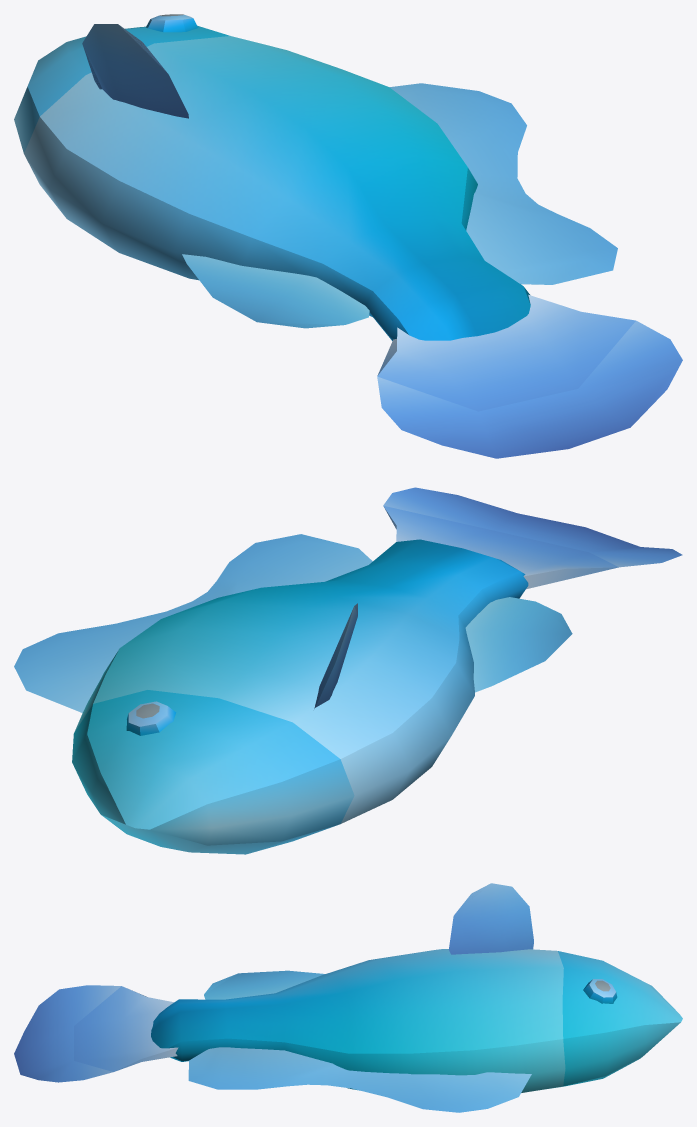
File: fish_004.fbx
3 views of the same model, one above another, from view 1: azimuth 30°, elevation 25°; view 2: azimuth 150°, elevation 25°; view 3: azimuth 270°, elevation 25° (orthographic). The views are drawn at different scales.
Visible parts, largest first — view 1: fish_004; view 2: fish_004; view 3: fish_004.
Part boxes in pixels (x1,y1,x2,y2): fish_004: (14, 14, 682, 458); fish_004: (14, 487, 682, 854); fish_004: (14, 883, 682, 1112).
Bounding box in the file's own units: 7.5 × 14.54 × 3.8.
